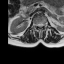CCS_normal: (39, 21, 41, 30)
LFS_normal: (43, 21, 45, 27)
LLS_normal: (41, 21, 43, 28)
RFS_normal: (35, 22, 37, 28)
RLS_normal: (37, 21, 39, 28)
